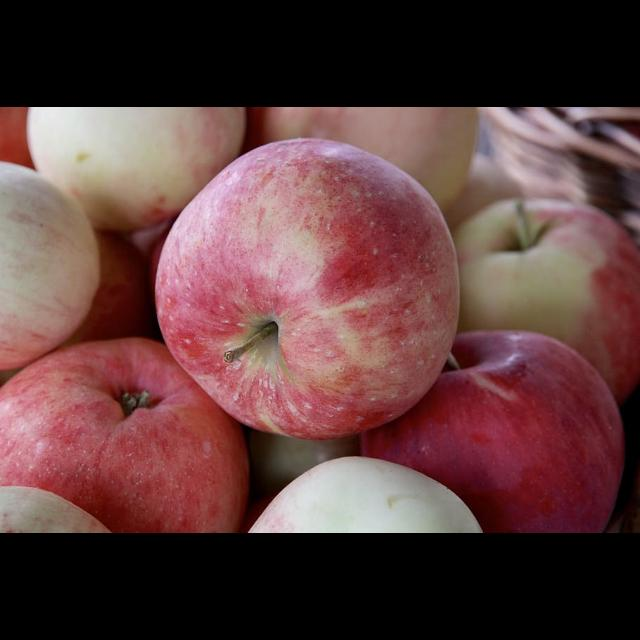Apel Segar: (144, 132, 476, 452)
